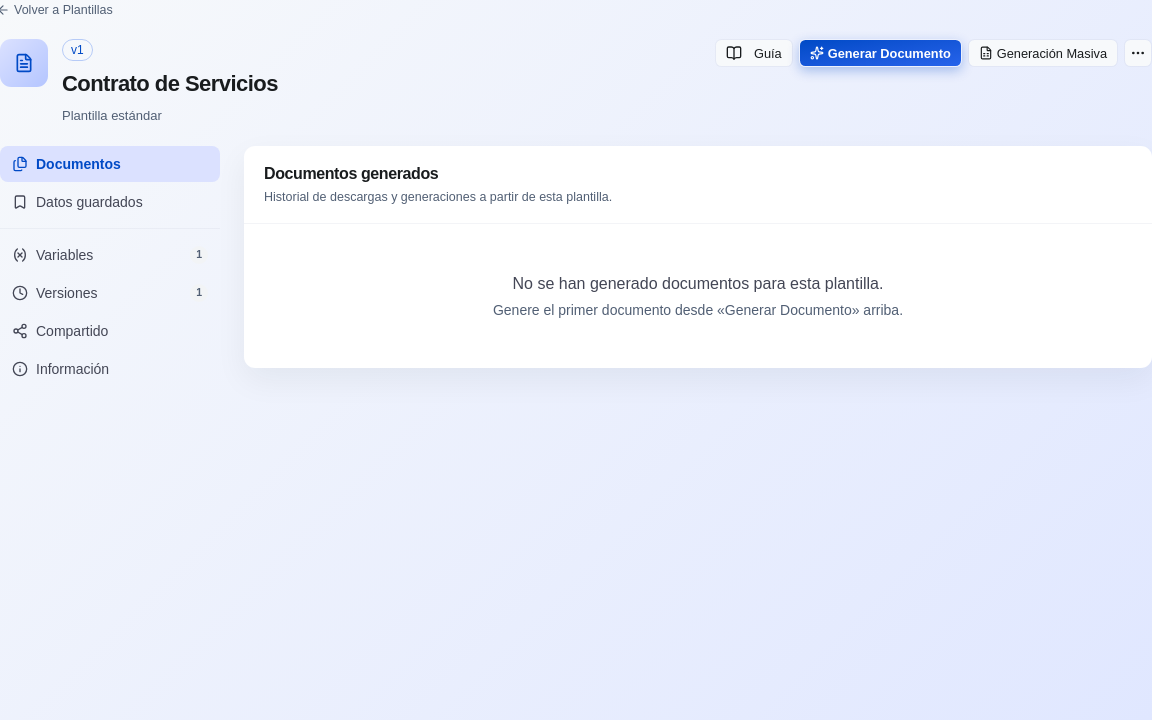
TemplateDetail — action row reorganization › collapses owner management actions into the 'Más acciones' menu, with Eliminar destructive and last
Expected: the heading "Contrato de Servicios" is shown, x1=62 y1=67 x2=278 y2=100
Expected: the button "renombrar" is not shown
Click the button named "más acciones" at (1138, 53), box x1=1124 y1=39 x2=1151 y2=67
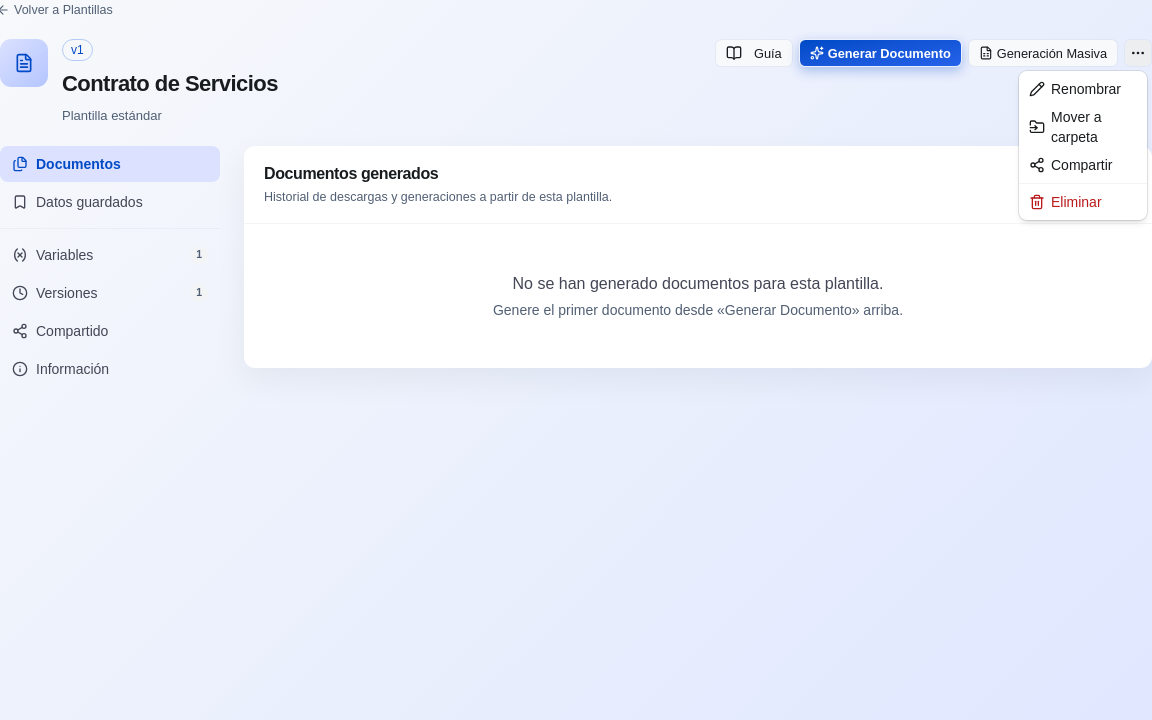
Now the menu item "Renombrar" is shown, box x1=1029 y1=81 x2=1121 y2=97
Now the menu item "Mover a carpeta" is shown, box x1=1029 y1=109 x2=1102 y2=145
Now the menu item "Compartir" is shown, box x1=1029 y1=157 x2=1112 y2=173
